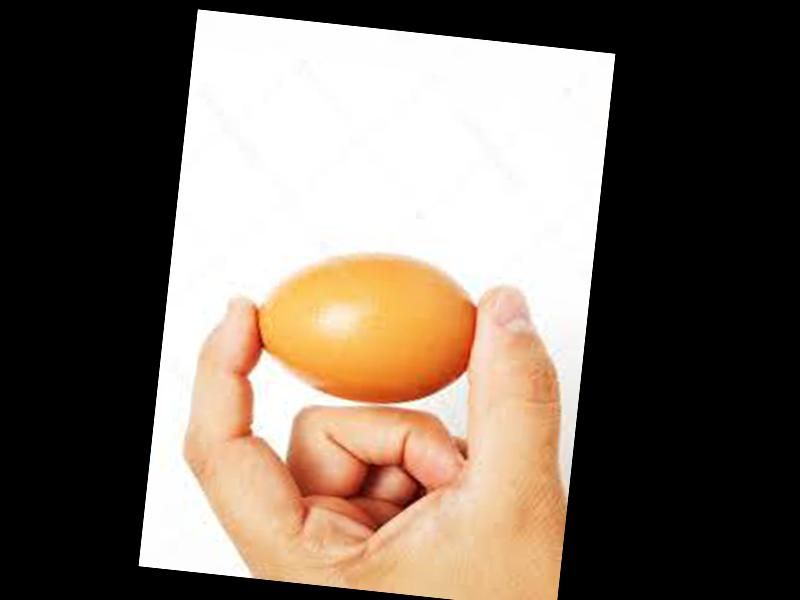Eggs: (245, 238, 482, 414)
